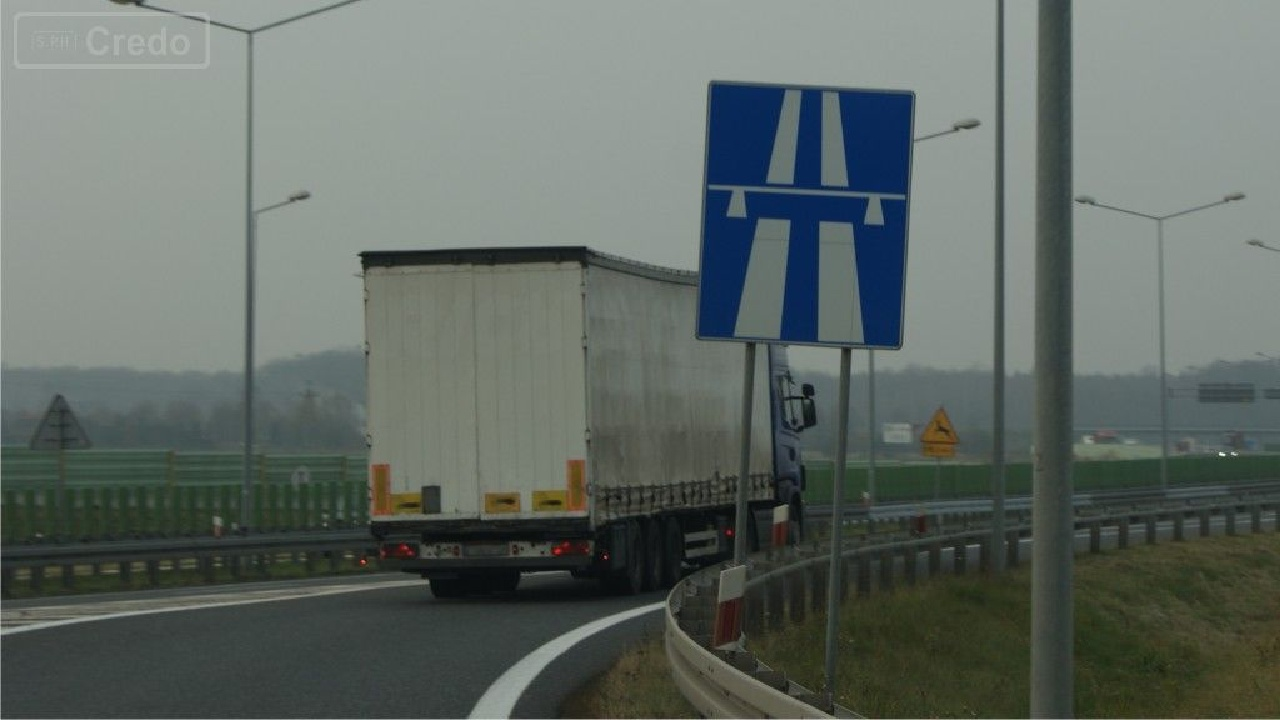D9: (702, 80, 910, 355)
